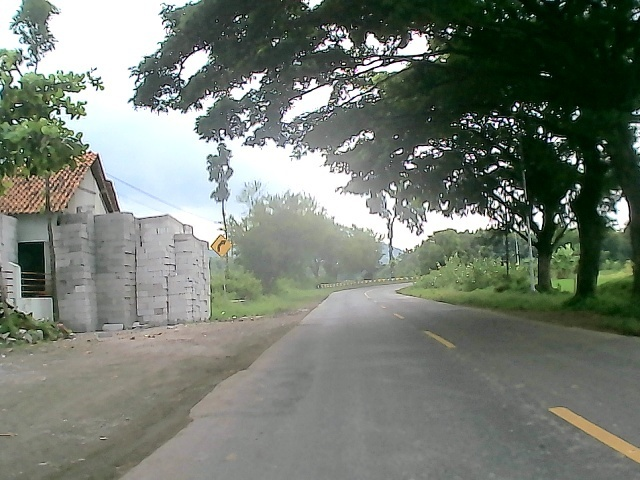Tikungan ke kanan: (207, 231, 235, 262)
